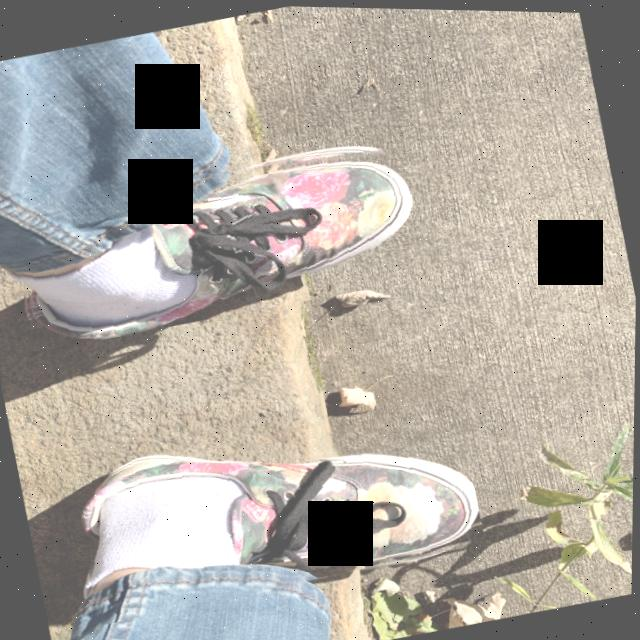shoe: (64, 387, 490, 633), (1, 119, 433, 359)
